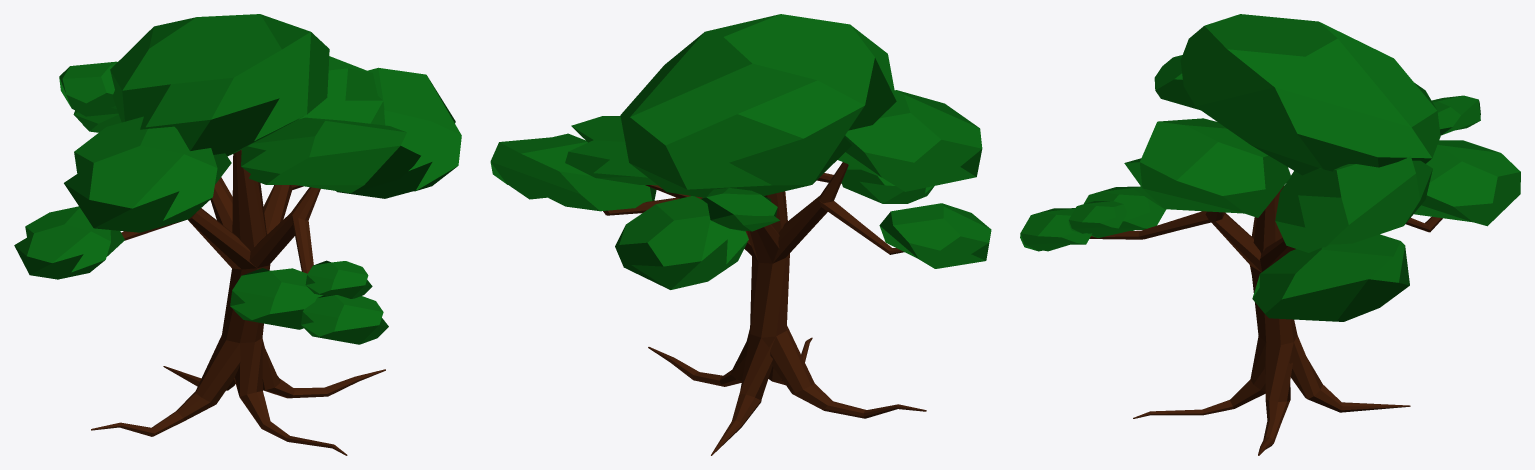
Rendered from Chunky_Tree.fbx.
The picture shows the model from 3 angles, left to right: view 1: azimuth 30°, elevation 25°; view 2: azimuth 150°, elevation 25°; view 3: azimuth 270°, elevation 25°; orthographic projection. The views are drawn at different scales.
Visible parts, largest first — view 1: Chunky_Tree; view 2: Chunky_Tree; view 3: Chunky_Tree.
Part boxes in pixels (bbox=[...]): Chunky_Tree: bbox=[14, 14, 461, 455]; Chunky_Tree: bbox=[490, 14, 991, 455]; Chunky_Tree: bbox=[1020, 14, 1520, 455].
Bounding box in the file's own units: 1.43 × 1.12 × 1.38.
